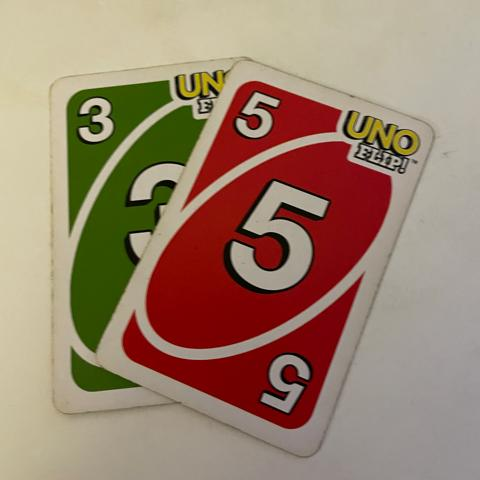lgreen-3: (61, 85, 127, 161)
lred-5: (228, 84, 295, 148)
